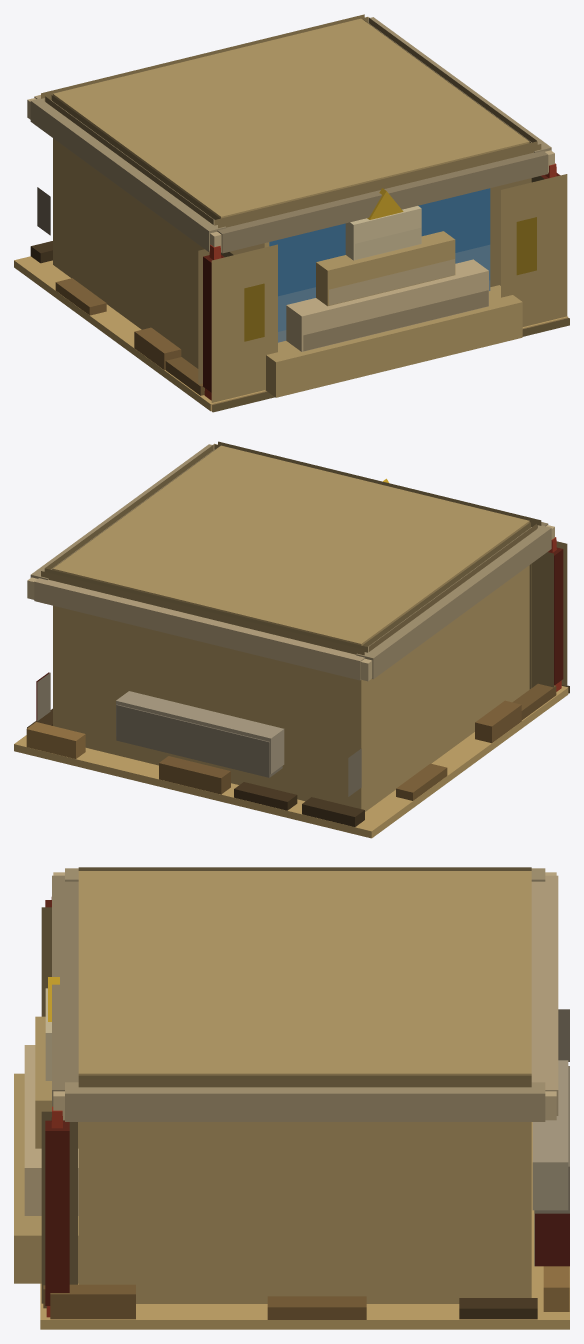
Rendered from GizaPyramidsSil.fbx.
3 renders of one model, top to bottom at view 1: azimuth 30°, elevation 25°; view 2: azimuth 150°, elevation 25°; view 3: azimuth 270°, elevation 25°, orthographic. The views are drawn at different scales.
Parts seen in each view (by area): view 1: GZ_S_All; view 2: GZ_S_All; view 3: GZ_S_All.
Boxes of the visible parts, x1=… form: GZ_S_All: x1=14, y1=14, x2=569, y2=412; GZ_S_All: x1=14, y1=441, x2=569, y2=838; GZ_S_All: x1=14, y1=867, x2=569, y2=1329.
Bounding box in the file's own units: 42.04 × 20 × 42.02.
